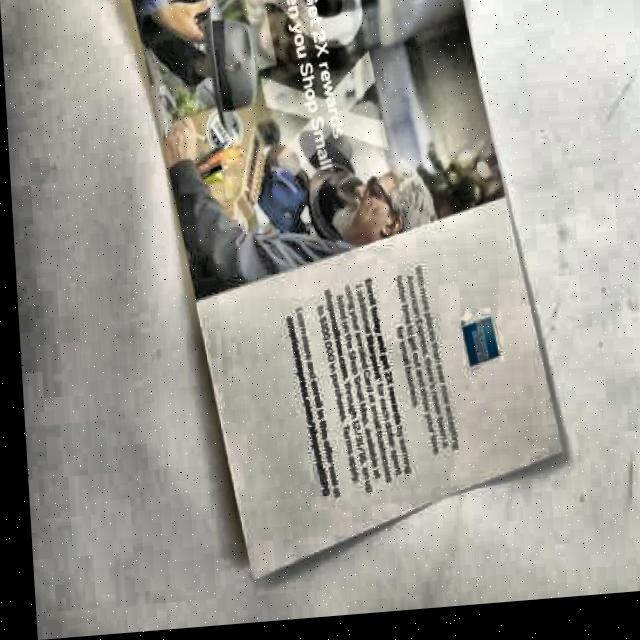paper: (128, 0, 577, 589)
